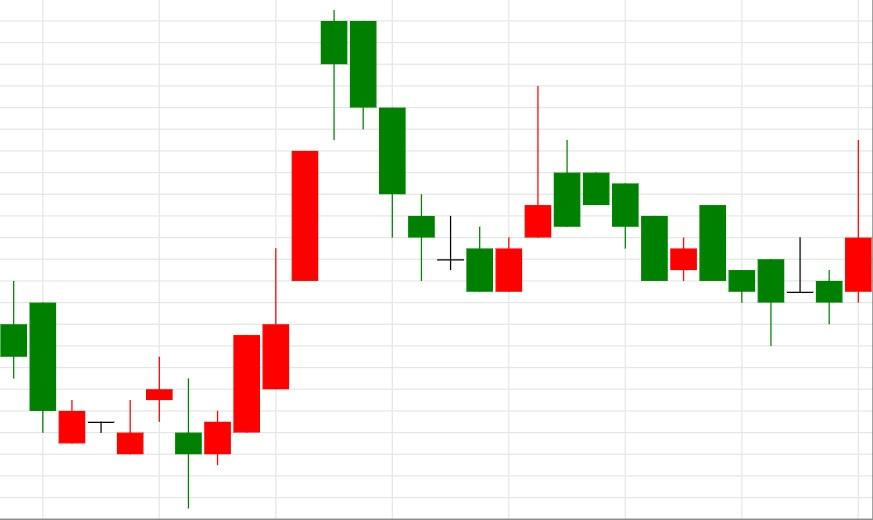shooting_star_fall: (466, 86, 552, 292)
three_black_crows_fall: (174, 9, 436, 509)
